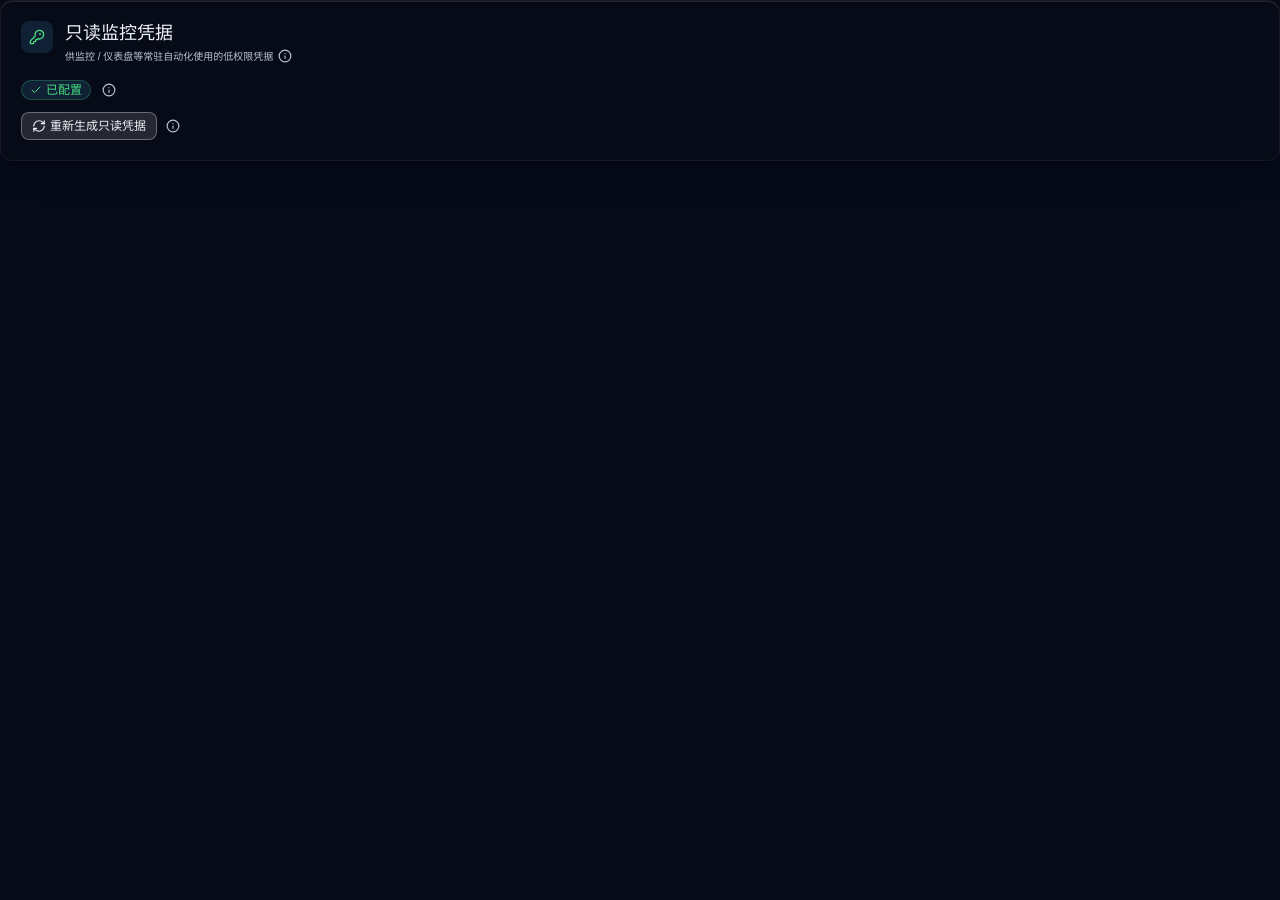
Test: ReadonlyCredentialPanel 状态呈现 › 已配置：显示「已配置」与「重新生成」，能力边界说明收进信息入口
The image size is (1280, 900).
Expected: the text "已配置" is shown, x1=21 y1=80 x2=91 y2=100
Expected: the button "重新生成只读凭据" is shown, x1=21 y1=112 x2=157 y2=140
Click the button named "只读凭据权限范围" at (109,90), box x1=101 y1=82 x2=117 y2=98
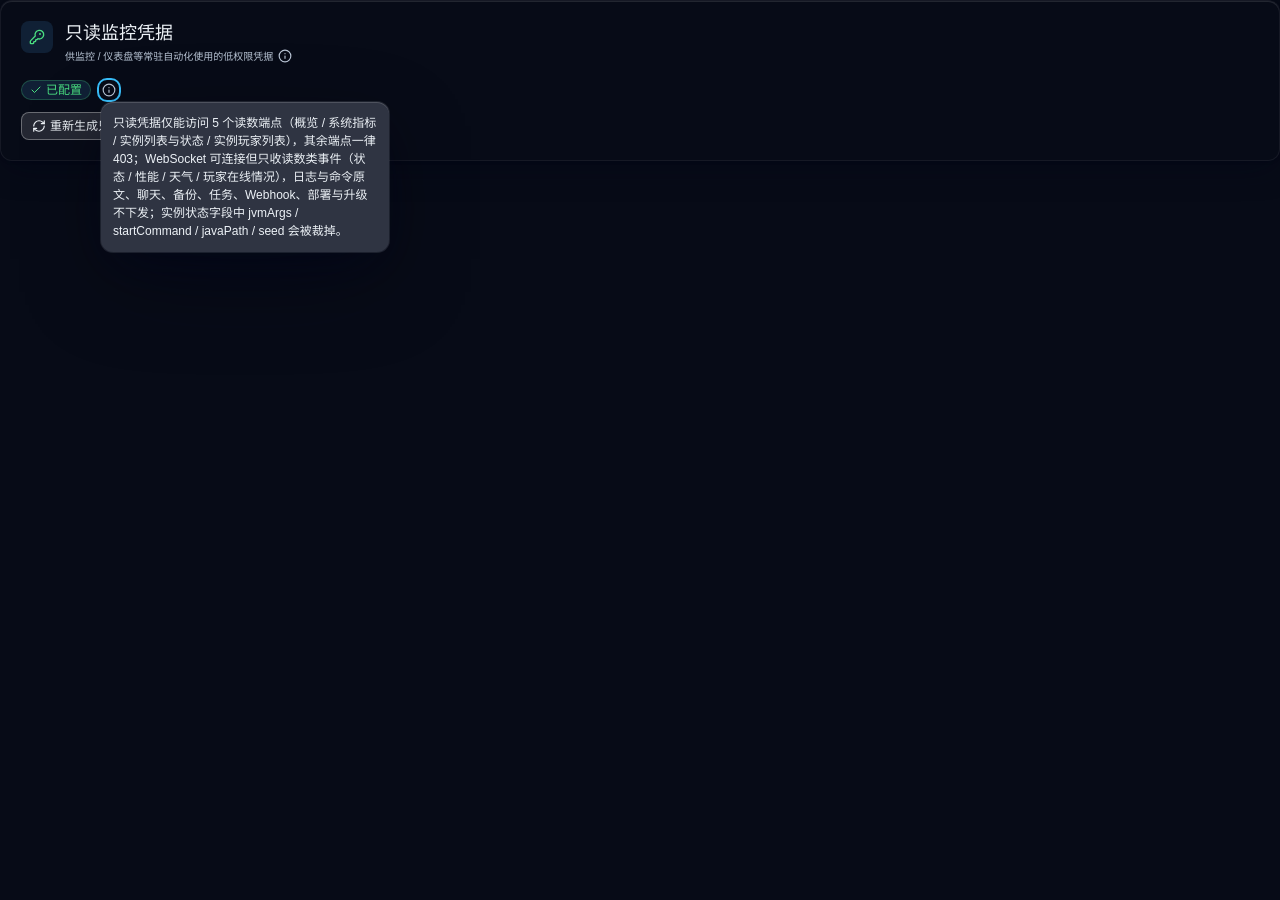
Expected: the dialog named "只读凭据权限范围" shows "仅能访问 5 个读数端点", x1=113 y1=116 x2=376 y2=238
Press Escape
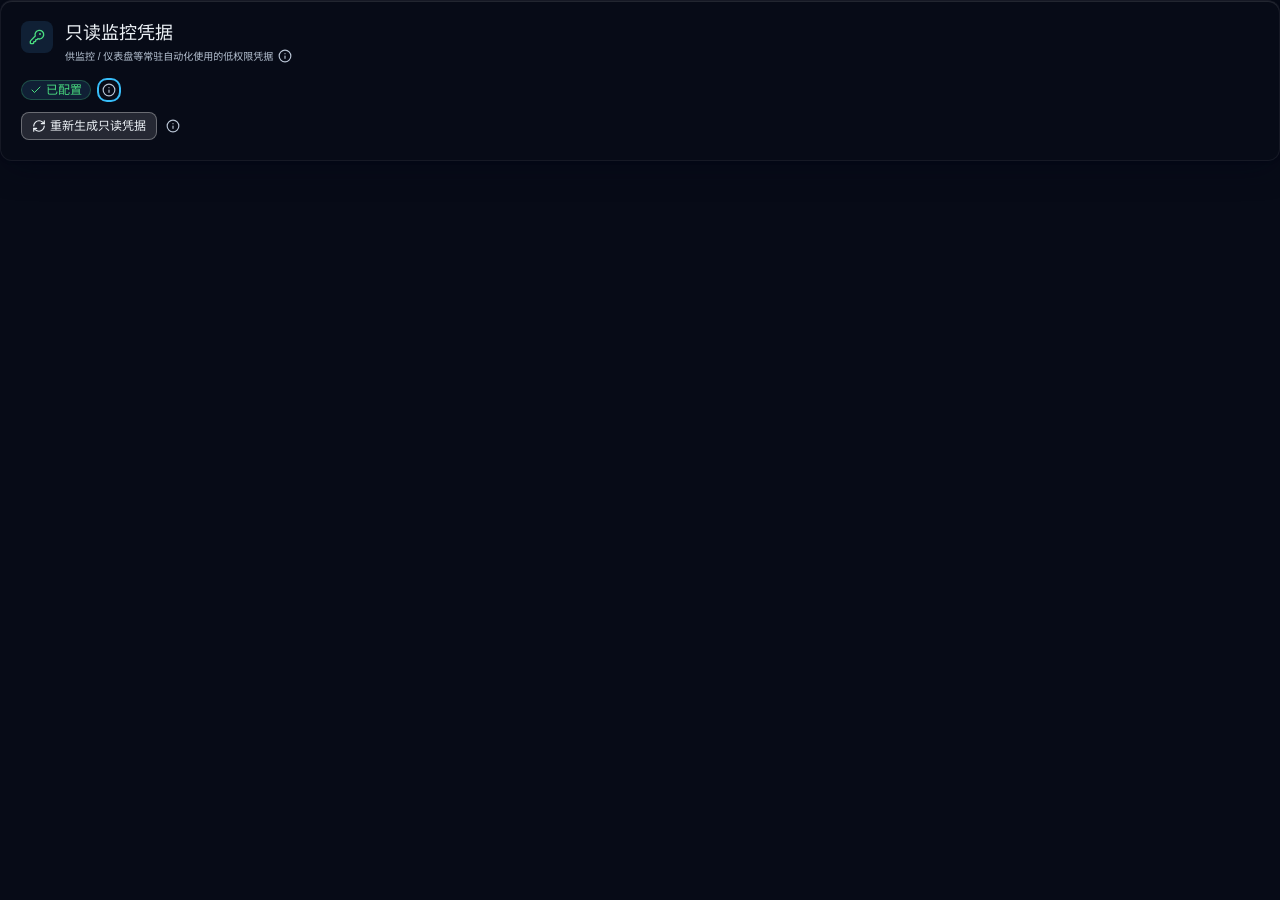
Expected: the text "两条独立通道" is not shown
Click the button named "只读凭据定位说明" at (285,56), box x1=277 y1=48 x2=293 y2=64
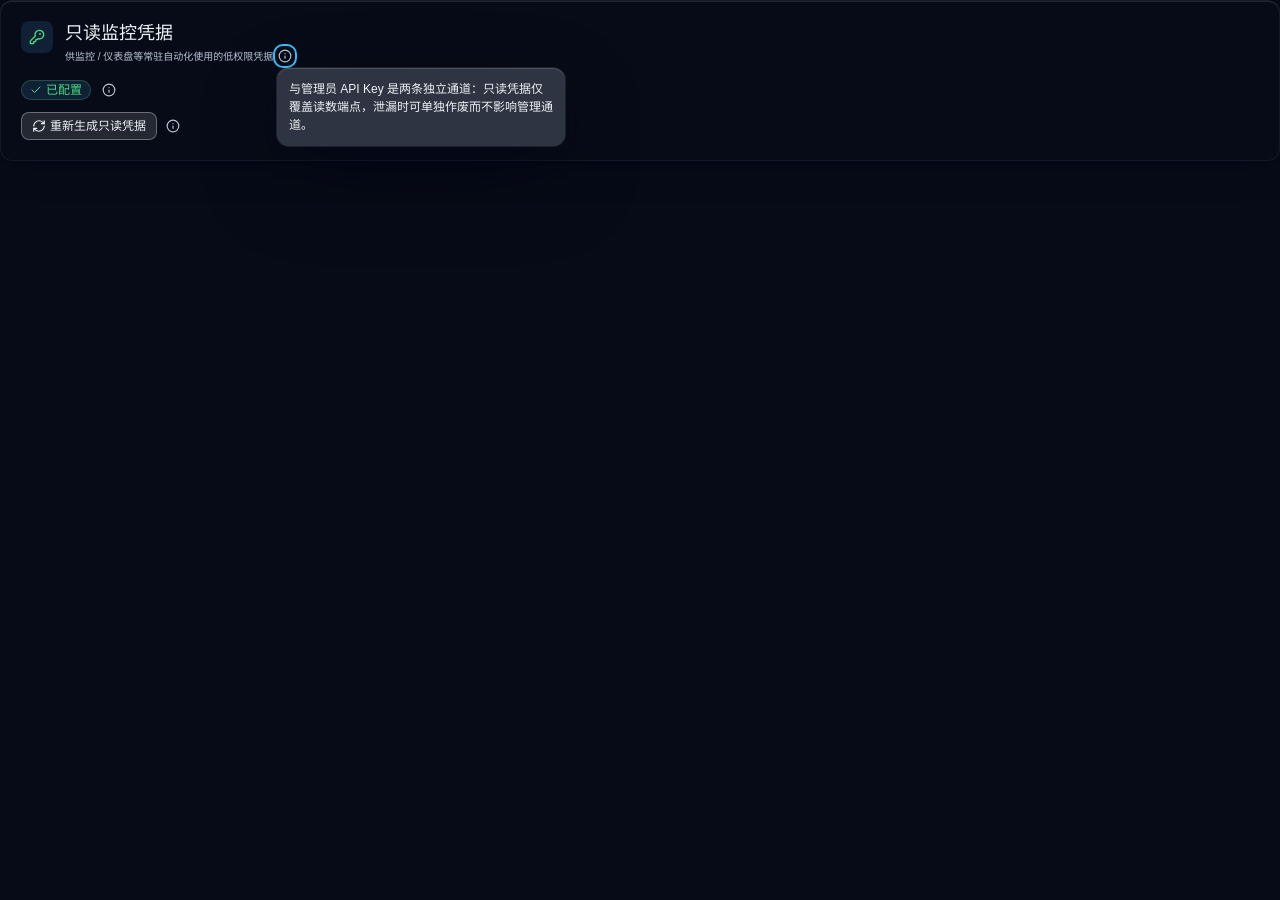
Expected: the dialog named "只读凭据定位说明" shows "两条独立通道", x1=289 y1=82 x2=553 y2=132
